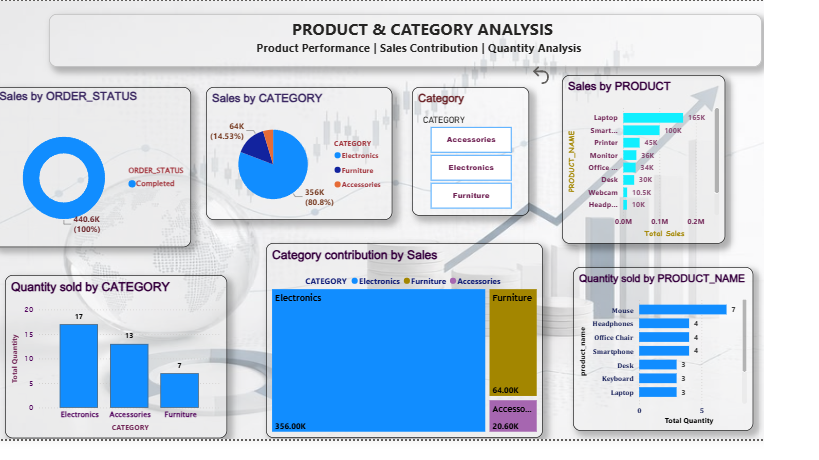

This screenshot's page, from the dashboard's own definition file:
{"tool":"powerbi","page":{"name":"Product&Category Analysis","canvas":[1280,720],"ordinal":1},"visuals":[{"type":"donutChart","title":" Sales by CATEGORY","fields":{"Category":["PRODUCTS.CATEGORY"],"Y":["ORDER_ITEMS.Total Sales"]},"box":[352.5,141.7,307,219],"z":0},{"type":"clusteredBarChart","title":"Sales by PRODUCT","fields":{"Category":["PRODUCTS.PRODUCT_NAME"],"Y":["ORDER_ITEMS.Total Sales"]},"box":[938.4,122.5,269.1,277.7],"z":1000},{"type":"slicer","title":"Category","fields":{"Values":["PRODUCTS.CATEGORY"]},"box":[691.9,141.7,193.2,212.2],"z":2000},{"type":"donutChart","title":"Sales by ORDER_STATUS","fields":{"Category":["ORDERS.ORDER_STATUS"],"Y":["ORDER_ITEMS.Total Sales"]},"box":[0,141.7,327.8,263.6],"z":3000},{"type":"clusteredColumnChart","title":" Quantity sold  by CATEGORY","fields":{"Category":["PRODUCTS.CATEGORY"],"Y":["ORDER_ITEMS.Total Quantity"]},"box":[21.4,451.4,365.7,268.5],"z":4000},{"type":"clusteredBarChart","title":"Quantity sold by PRODUCT_NAME","fields":{"Category":["PRODUCTS.PRODUCT_NAME"],"Y":["ORDER_ITEMS.Total Quantity"]},"box":[957.1,438.2,296.5,270.2],"z":5000},{"type":"treemap","title":"Category contribution by Sales","fields":{"Group":["PRODUCTS.CATEGORY"],"Values":["ORDER_ITEMS.Total Sales"]},"box":[451.4,398.7,456.3,321.2],"z":6000},{"type":"textbox","box":[94,21.8,1174,87],"z":7000},{"type":"actionButton","box":[884.6,102.1,46.2,39.6],"z":8000}]}

Visuals, with their boxes in screenshot pixels (x1, y1, x2, y2), scaled from the page's 1280x720 canvas onto the 819x460 screenshot:
" Sales by CATEGORY" donutChart: bbox=[226, 91, 422, 230]
"Sales by PRODUCT" clusteredBarChart: bbox=[600, 78, 773, 256]
"Category" slicer: bbox=[443, 91, 566, 226]
"Sales by ORDER_STATUS" donutChart: bbox=[0, 91, 210, 259]
" Quantity sold  by CATEGORY" clusteredColumnChart: bbox=[14, 288, 248, 459]
"Quantity sold by PRODUCT_NAME" clusteredBarChart: bbox=[612, 280, 802, 453]
"Category contribution by Sales" treemap: bbox=[289, 255, 581, 459]
textbox: bbox=[60, 14, 811, 70]
actionButton: bbox=[566, 65, 596, 91]
